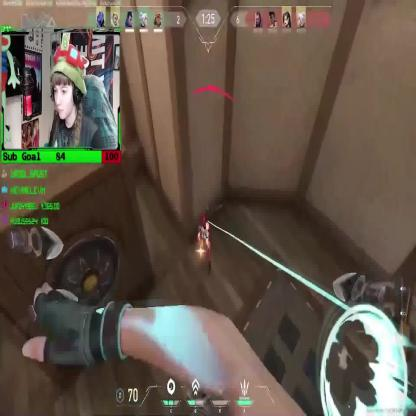enemy: (196, 210, 212, 275)
enemy_head: (201, 213, 207, 226)
